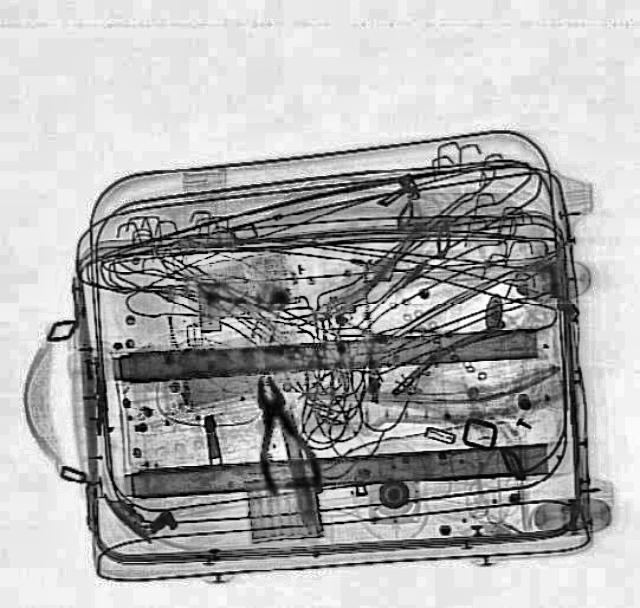Pliers: (238, 370, 324, 494)
